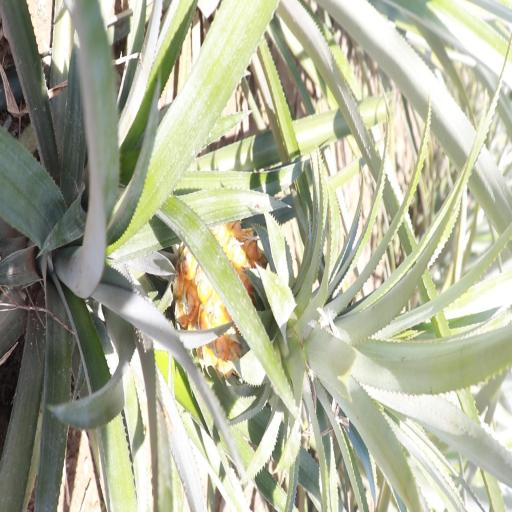Pineapple - v8 v1: (180, 210, 393, 380)
